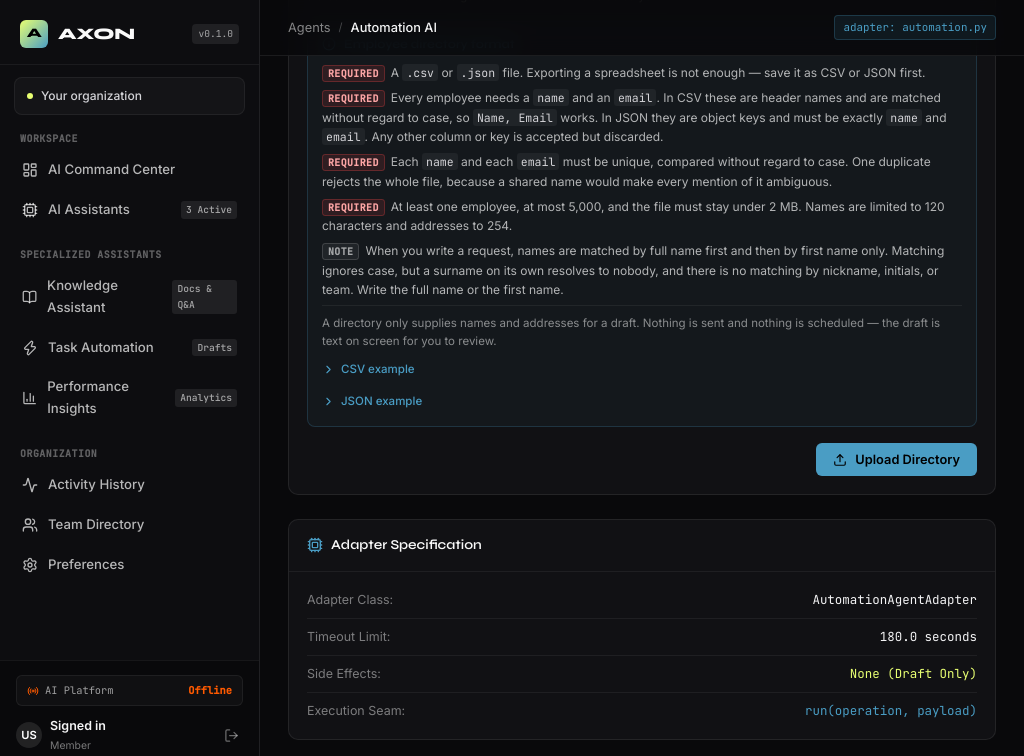
Test: AutomationAIPage employee directory guidance › keeps the JSON example collapsed until asked for
(page scrolled)
Expected: the text "engineering.json" is not shown
Click the button "JSON example": (372, 401) 322,392 -> 422,410
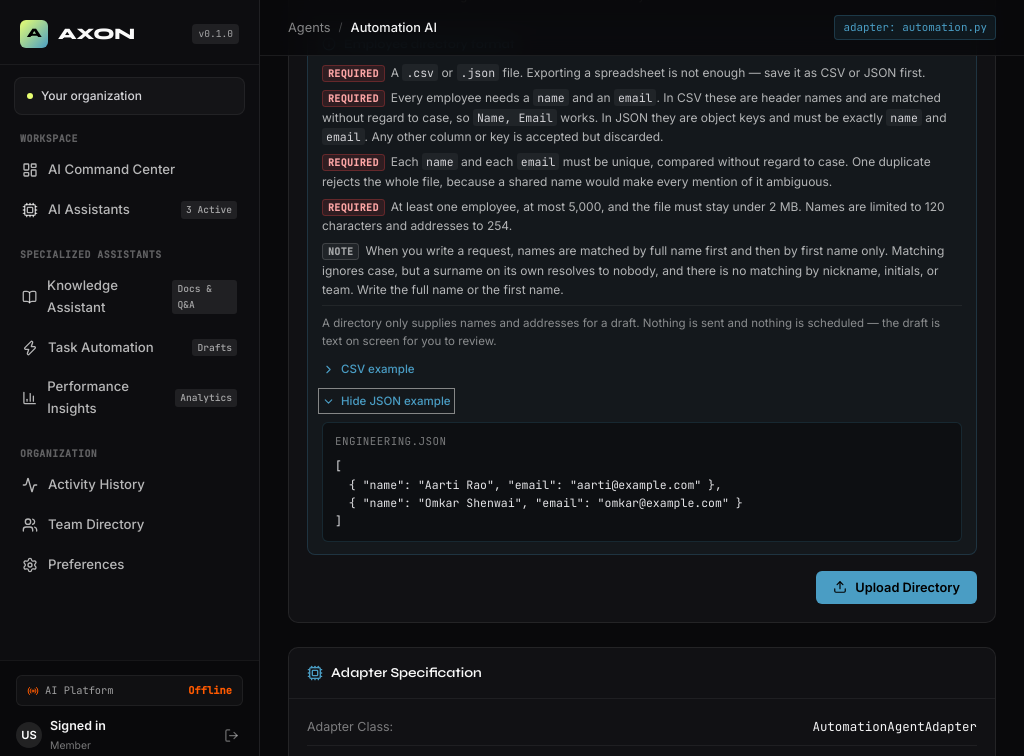
Expected: the text "engineering.json" is shown, 335,434 -> 446,448
